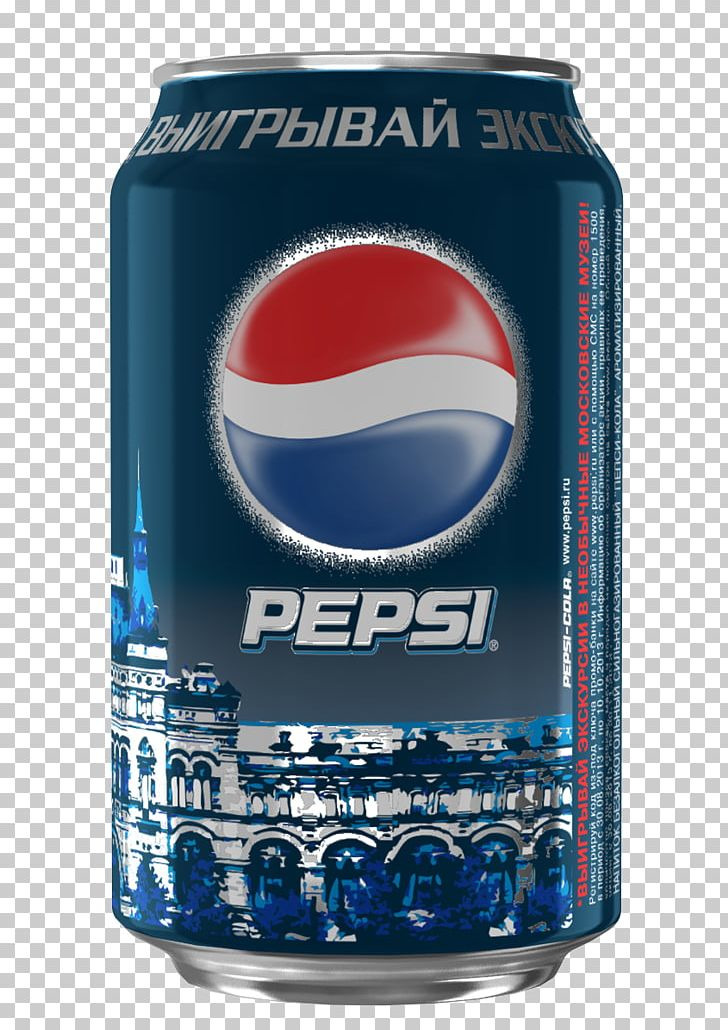pepsi: (106, 50, 625, 1005)
